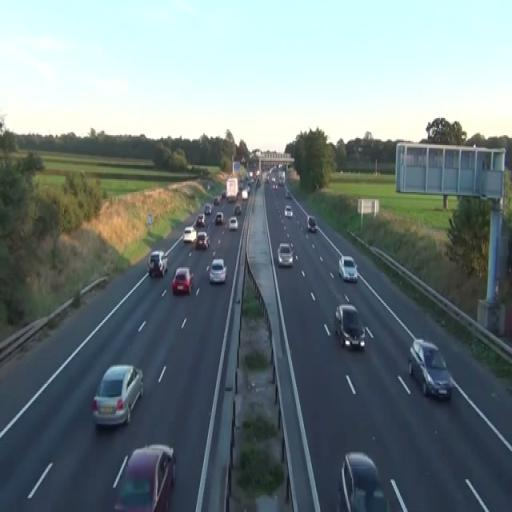Car: (111, 443, 177, 511), (91, 364, 144, 428), (339, 452, 389, 512), (408, 339, 452, 401), (335, 302, 366, 351), (172, 267, 194, 296), (148, 250, 168, 279), (338, 256, 358, 283), (209, 258, 228, 285), (276, 242, 294, 267), (195, 230, 210, 250), (183, 226, 197, 243), (229, 216, 238, 230)
Truck: (226, 177, 238, 201)
